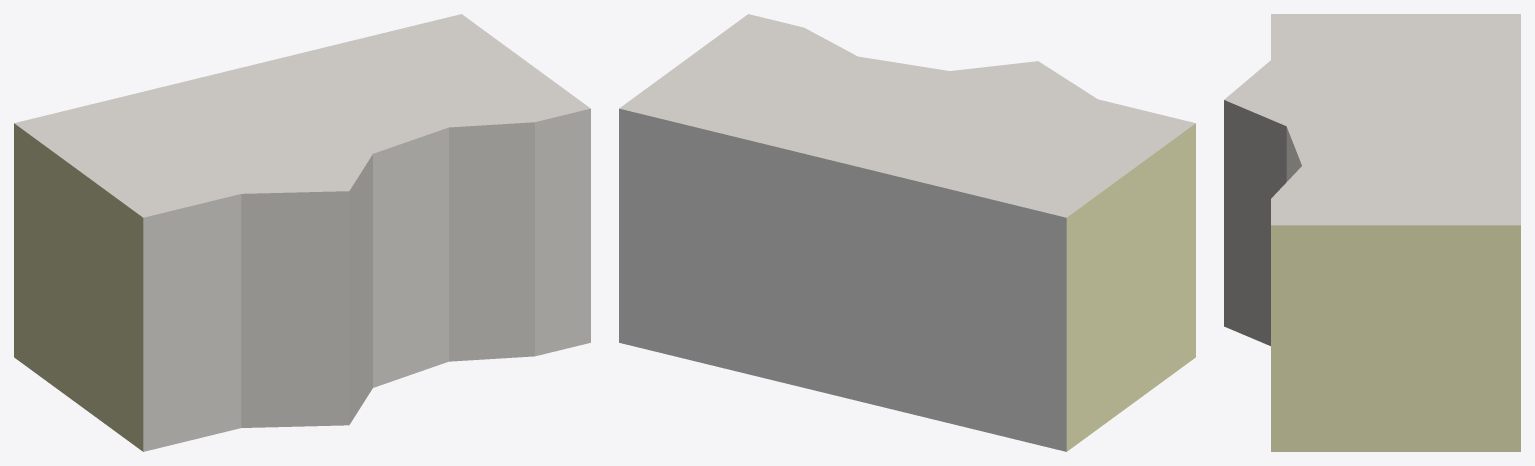
File: Cracked_Straight_2x2_2_Mid.fbx
The picture shows the model from 3 angles, left to right: view 1: azimuth 30°, elevation 25°; view 2: azimuth 150°, elevation 25°; view 3: azimuth 270°, elevation 25°; orthographic projection. The views are drawn at different scales.
Visible parts, largest first — view 1: Cracked_Straight_2x2_2_Mid; view 2: Cracked_Straight_2x2_2_Mid; view 3: Cracked_Straight_2x2_2_Mid.
Boxes of the visible parts, x1,y1,x2,y2 form: Cracked_Straight_2x2_2_Mid: (14,14,590,451); Cracked_Straight_2x2_2_Mid: (619,14,1195,451); Cracked_Straight_2x2_2_Mid: (1224,14,1520,451).
Bounding box in the file's own units: 200 × 100 × 119.
